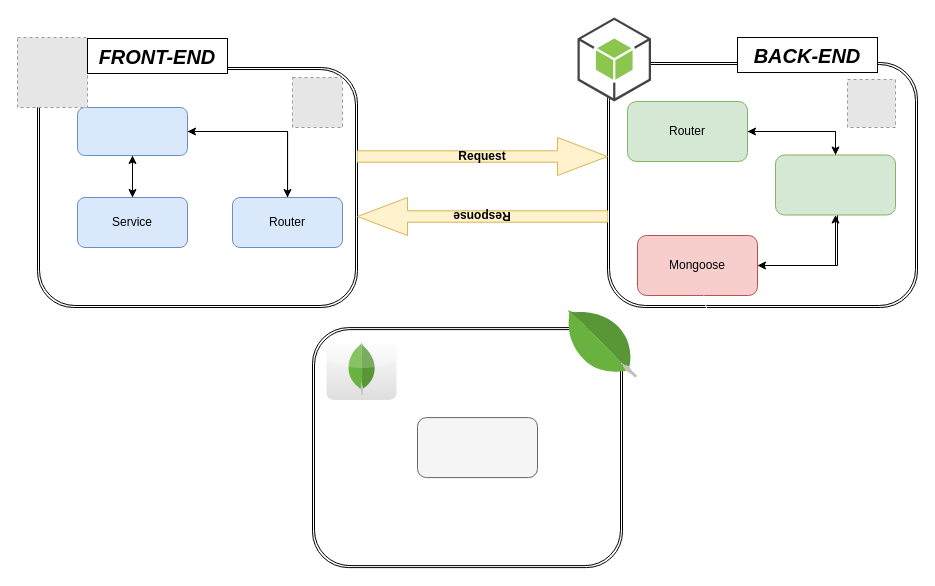
Image size: 935x586. Some labels were removed from this diagram. Grey dashed boxes stand in for pictures. The shapes that lost their labels are listed below. From the top down, each one's centre as x and y in pixels, then its label:
At point 132,131: "Components".
At point 835,184: "Controller".
At point 477,447: "DataBase".
